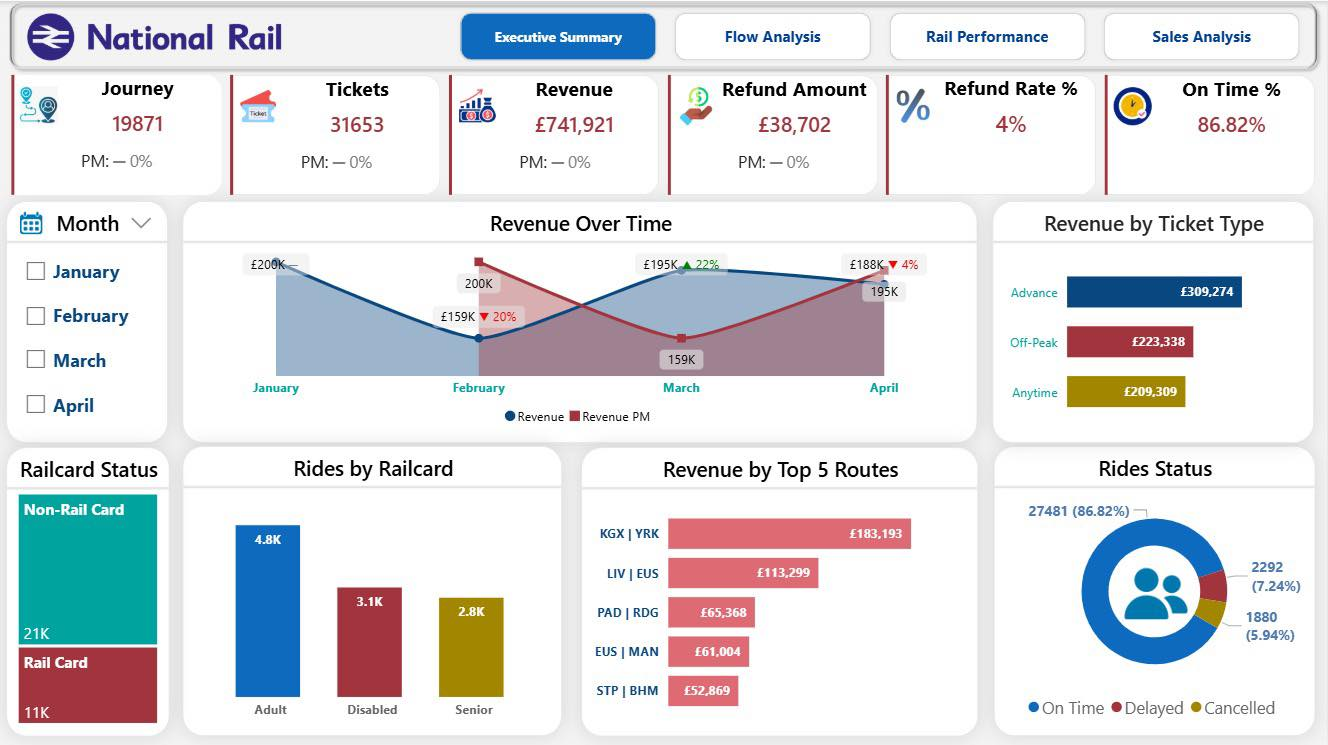

This screenshot's page, from the dashboard's own definition file:
{"tool":"powerbi","page":{"name":"Executive Summary","canvas":[1280,720],"ordinal":1},"visuals":[{"type":"donutChart","title":"Rides Status","fields":{"Y":["All Measures.Total Rides"],"Category":["Dim Journey Status.Journey Status"]},"box":[958.9,430,310,280],"z":0},{"type":"slicer","title":"Month","fields":{"Values":["DimDate.Month"]},"box":[6.1,192.9,155.8,233.7],"z":1000},{"type":"areaChart","title":"Revenue Over Time","fields":{"Y":["All Measures.Total Revenue","All Measures.Revenue PM"],"Category":["DimDate.Date.Variation.Date Hierarchy.Month","DimDate.Date.Variation.Date Hierarchy.Day"]},"box":[176.3,192.9,767.5,233.7],"z":2000},{"type":"barChart","title":"Revenue by Ticket Type","fields":{"Y":["All Measures.Total Revenue"],"Category":["Dim Ticket Type.Ticket Type"]},"box":[958.3,192.9,310.2,233.7],"z":3000},{"type":"barChart","title":"Revenue by Top 5 Routes","fields":{"Category":["Dim Route.Route"],"Y":["All Measures.Total Revenue"]},"box":[561.1,431.1,383.3,278.9],"z":4000},{"type":"columnChart","title":"Rides by Railcard","fields":{"Category":["Dim Railcard.Railcard"],"Y":["All Measures.Total Rides"]},"box":[175.6,430,366.7,280],"z":5000},{"type":"treemap","title":"Railcard Status","fields":{"Group":["railway.Railcard Status"],"Values":["All Measures.Total Rides"]},"box":[5.6,431.1,157.8,278.9],"z":6000},{"type":"pageNavigator","box":[440.3,7.6,818.1,54.8],"z":7000},{"type":"image","box":[6,7.2,287.1,55.5],"z":8000},{"type":"cardVisual","fields":{"Data":["All Measures.Total Journey","All Measures.Total Rides","All Measures.Total Revenue","All Measures.Refund Amount","All Measures.Refund Rate %","All Measures.On Time Rides %"]},"box":[6,66.4,1270.4,126.7],"z":10000},{"type":"image","box":[1078.6,533.2,74.8,74.8],"z":11000},{"type":"image","box":[14.4,197.7,31.7,33.2],"z":12000},{"type":"image","box":[121.2,197.7,31.7,33.2],"z":13000}]}

Visuals, with their boxes in screenshot pixels (x1, y1, x2, y2), scaled from the page's 1280x720 canvas onto the 1328x745 screenshot:
"Rides Status" donutChart: (995, 445, 1316, 735)
"Month" slicer: (6, 200, 168, 441)
"Revenue Over Time" areaChart: (183, 200, 979, 441)
"Revenue by Ticket Type" barChart: (994, 200, 1316, 441)
"Revenue by Top 5 Routes" barChart: (582, 446, 980, 735)
"Rides by Railcard" columnChart: (182, 445, 563, 735)
"Railcard Status" treemap: (6, 446, 170, 735)
pageNavigator: (457, 8, 1306, 65)
image: (6, 7, 304, 65)
cardVisual - All Measures.Total Journey x All Measures.Total Rides: (6, 69, 1324, 200)
image: (1119, 552, 1197, 629)
image: (15, 205, 48, 239)
image: (126, 205, 159, 239)
